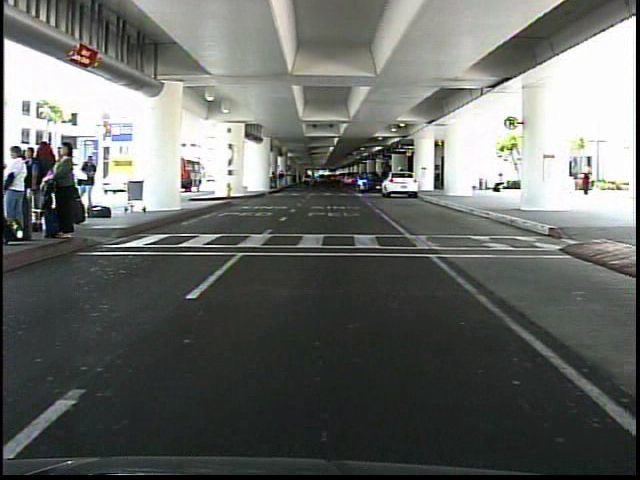person: (574, 163, 598, 203), (490, 167, 507, 199)
